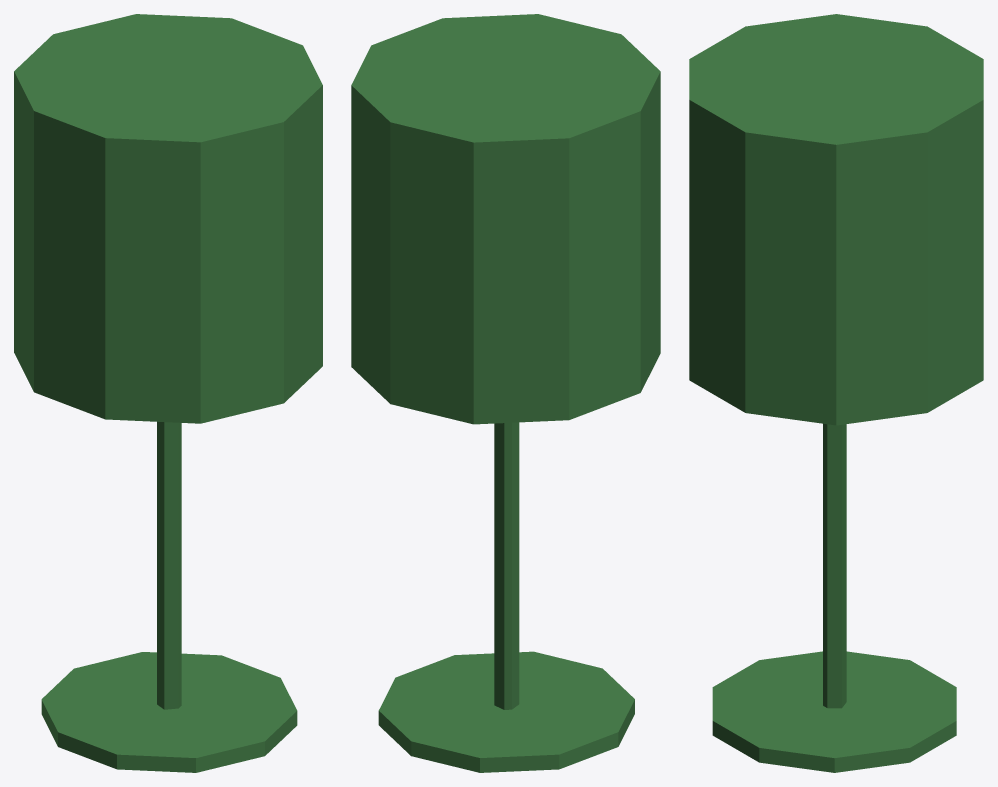
Rendered from lamp.fbx.
The picture shows the model from 3 angles, left to right: view 1: azimuth 30°, elevation 25°; view 2: azimuth 150°, elevation 25°; view 3: azimuth 270°, elevation 25°; orthographic projection.
Visible parts, largest first — view 1: polySurface654; view 2: polySurface654; view 3: polySurface654.
Part boxes in pixels (<box>): polySurface654: <box>14,14,322,772</box>; polySurface654: <box>351,14,660,772</box>; polySurface654: <box>689,14,983,772</box>.
Bounding box in the file's own units: 2 × 4.56 × 1.9.
